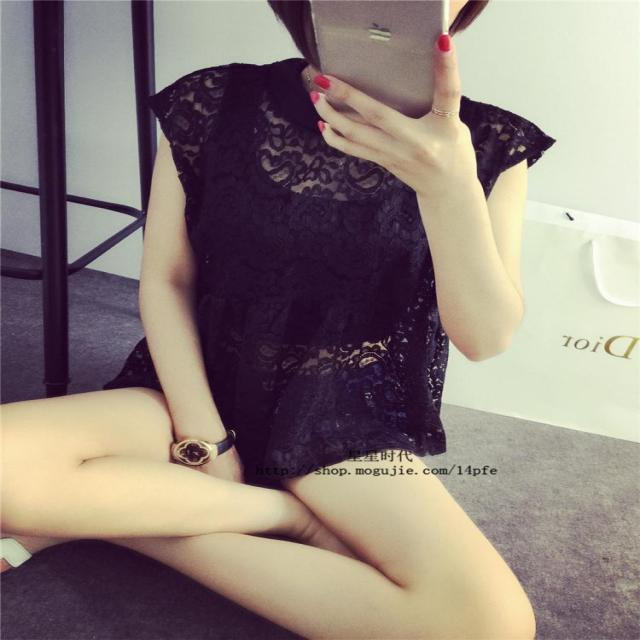vest: (104, 58, 557, 481)
